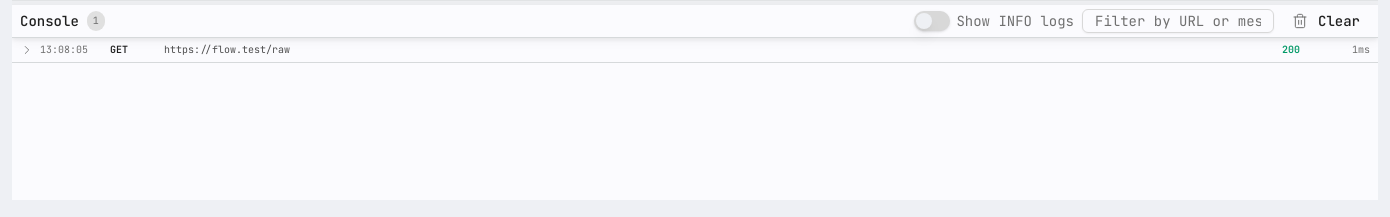
it: ConsolePanel masking › renders a row without a masked copy as before
Click the text "https://flow.test/raw" at coordinates (227, 50), box [164, 43, 290, 56]
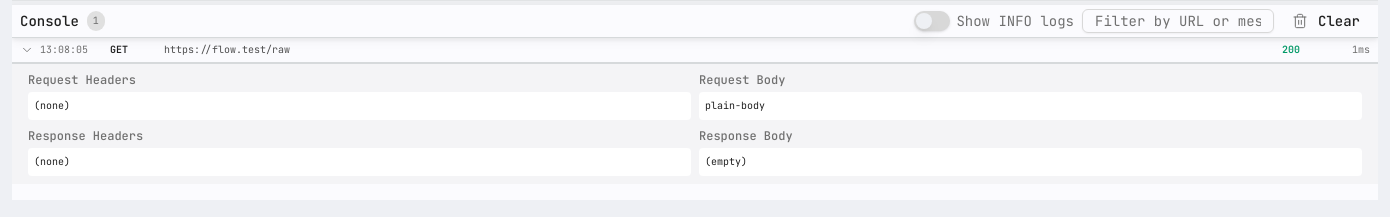
Expected: the text "plain-body" is shown, [699, 92, 1362, 120]
